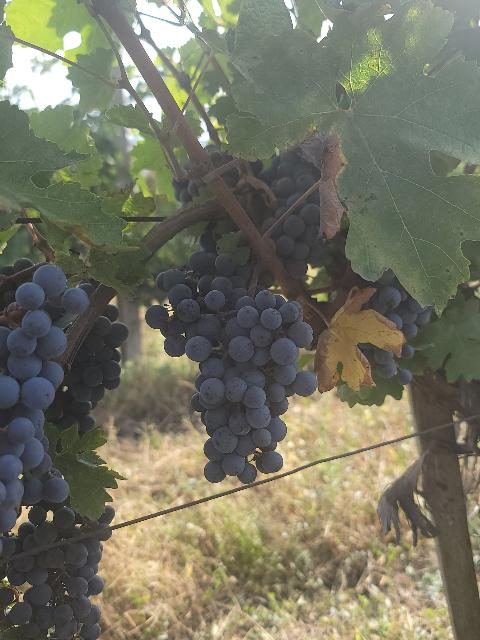grapes: (156, 270, 312, 484), (0, 264, 89, 532), (6, 502, 104, 640), (44, 305, 129, 435)
